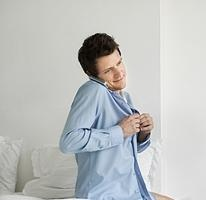person without safety: (56, 32, 157, 200)
